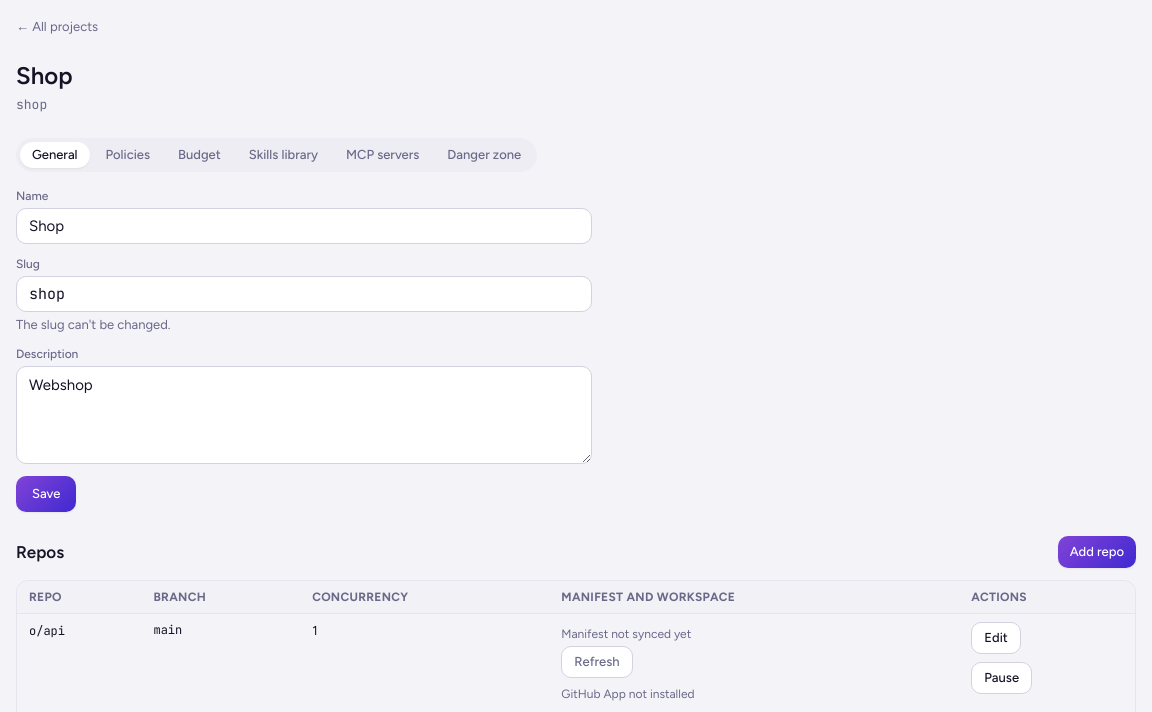
ProjectSettingsView › saves general settings with a full PUT body and shows a saved state
Replace the text in the field labelled "Name" with "Shop 2" at (304, 226), box [16, 208, 592, 244]
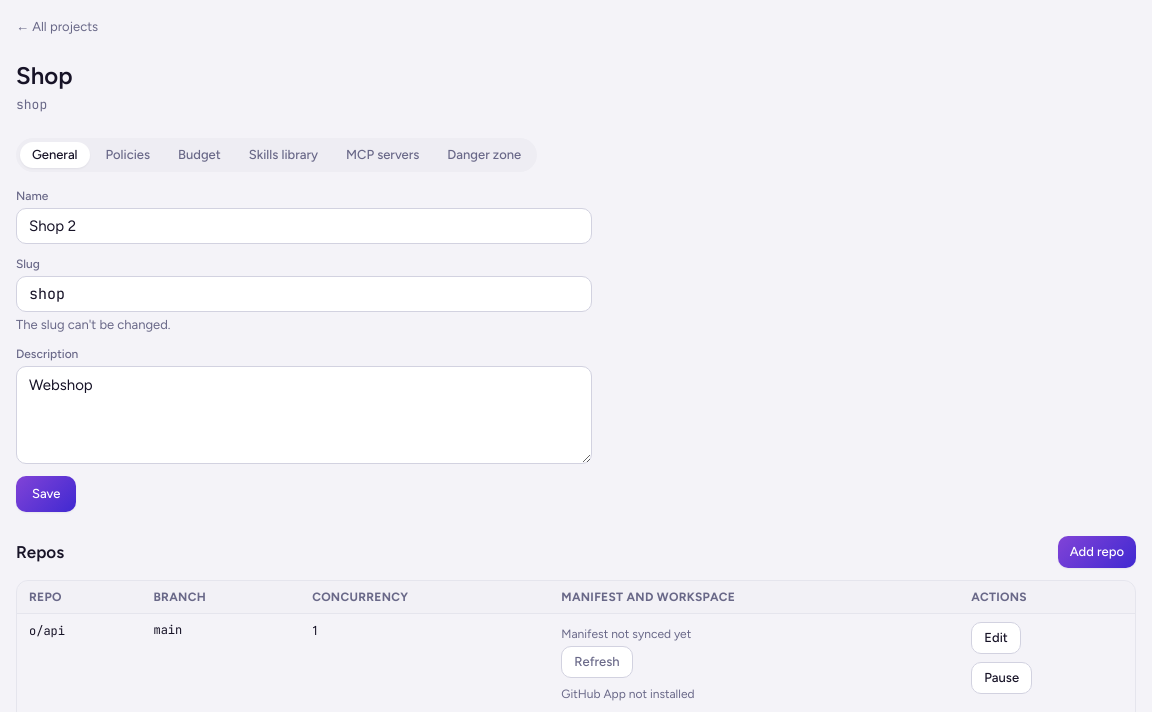
Click the button "Save" at (46, 494), box [16, 476, 76, 512]
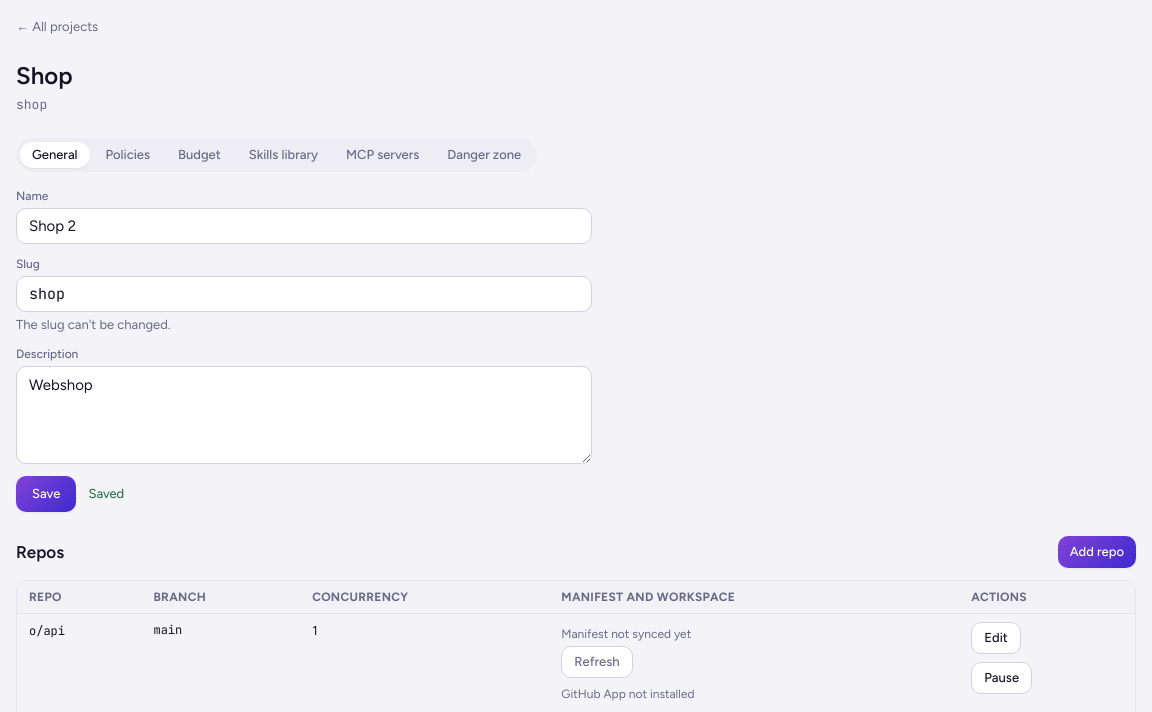
Now the text "Saved" is shown, box [88, 485, 124, 503]
